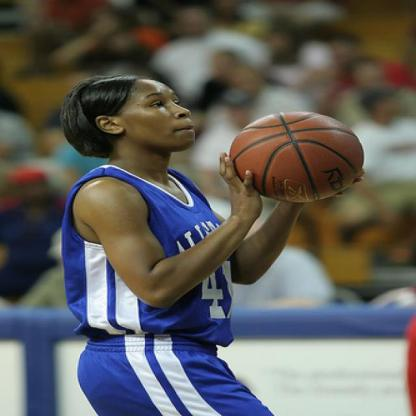basketball: (226, 109, 362, 203)
